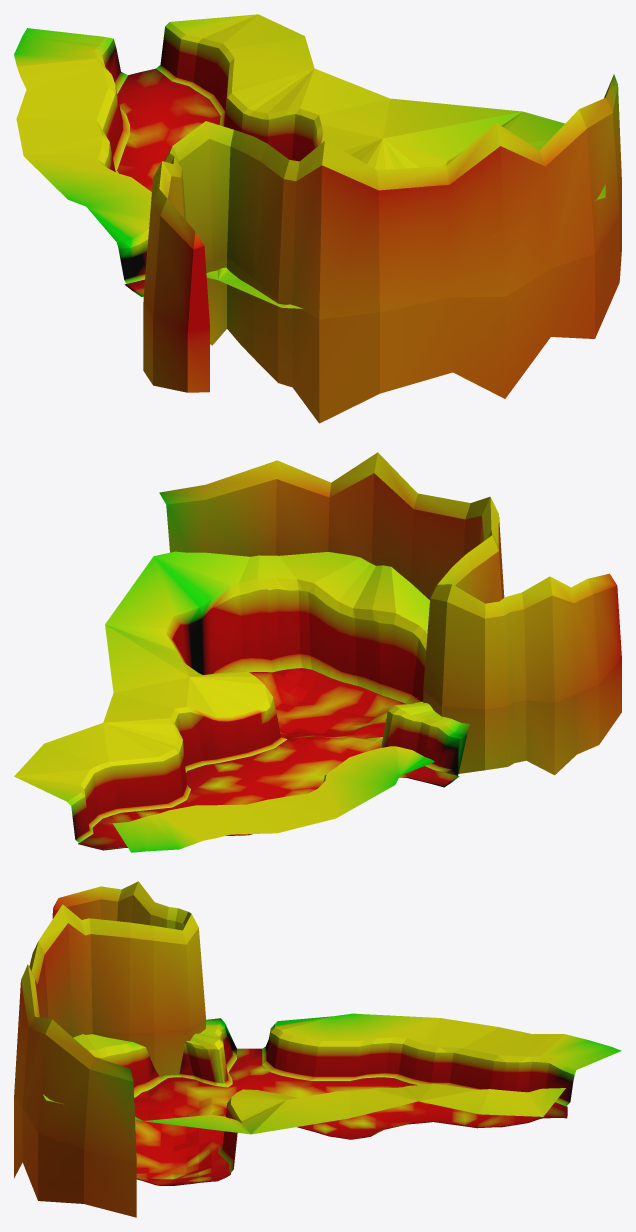
File: forest_clearing_2.glb
3 renders of one model, top to bottom at view 1: azimuth 30°, elevation 25°; view 2: azimuth 150°, elevation 25°; view 3: azimuth 270°, elevation 25°, orthographic. The views are drawn at different scales.
Parts seen in each view (by area): view 1: Separator_Rocks_1, Clearing_2_Wall, Clearing_2_Floor; view 2: Clearing_2_Wall, Separator_Rocks_1, Clearing_2_Floor; view 3: Separator_Rocks_1, Clearing_2_Wall, Clearing_2_Floor.
Boxes of the visible parts, left/top/right/bottom form: Separator_Rocks_1: left=143, top=74, right=621, bottom=423; Clearing_2_Wall: left=14, top=14, right=605, bottom=308; Clearing_2_Floor: left=117, top=68, right=220, bottom=296; Clearing_2_Wall: left=14, top=551, right=469, bottom=852; Separator_Rocks_1: left=159, top=452, right=621, bottom=775; Clearing_2_Floor: left=78, top=668, right=459, bottom=850; Separator_Rocks_1: left=14, top=881, right=205, bottom=1217; Clearing_2_Wall: left=43, top=1013, right=621, bottom=1173; Clearing_2_Floor: left=134, top=1048, right=567, bottom=1185.
Size of the model in its own units: 71.17 by 38.1 by 96.03.
